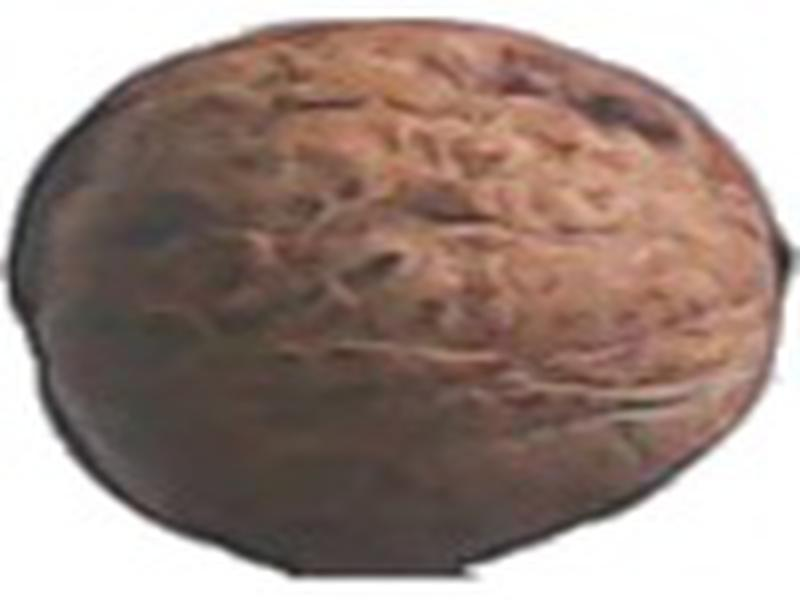walnut: (2, 4, 800, 598)
